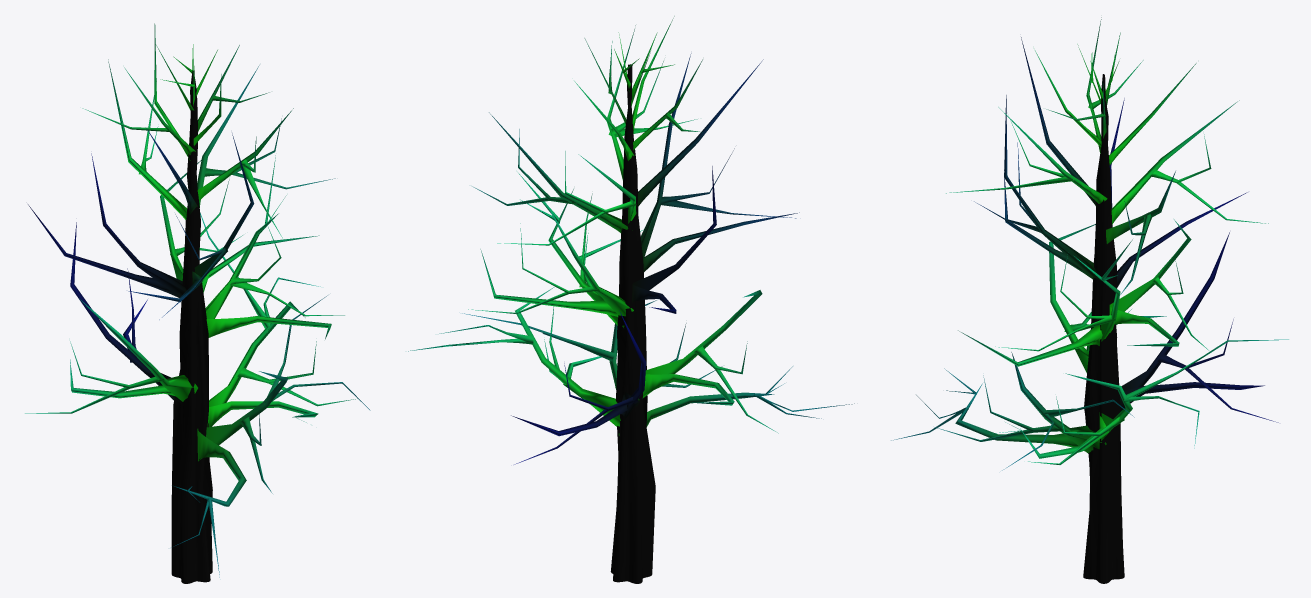
The model's file is arvore_folha_amarela_variante_3.fbx.
3 views of the same model, side by side, from view 1: azimuth 30°, elevation 25°; view 2: azimuth 150°, elevation 25°; view 3: azimuth 270°, elevation 25° (orthographic). The views are drawn at different scales.
Parts seen in each view (by area): view 1: bark01_0; view 2: bark01_0; view 3: bark01_0.
Boxes of the visible parts, x1=… form: bark01_0: x1=25, y1=23, x2=370, y2=583; bark01_0: x1=408, y1=16, x2=854, y2=583; bark01_0: x1=891, y1=17, x2=1288, y2=583.
Bounding box in the file's own units: 495 × 737 × 517.
